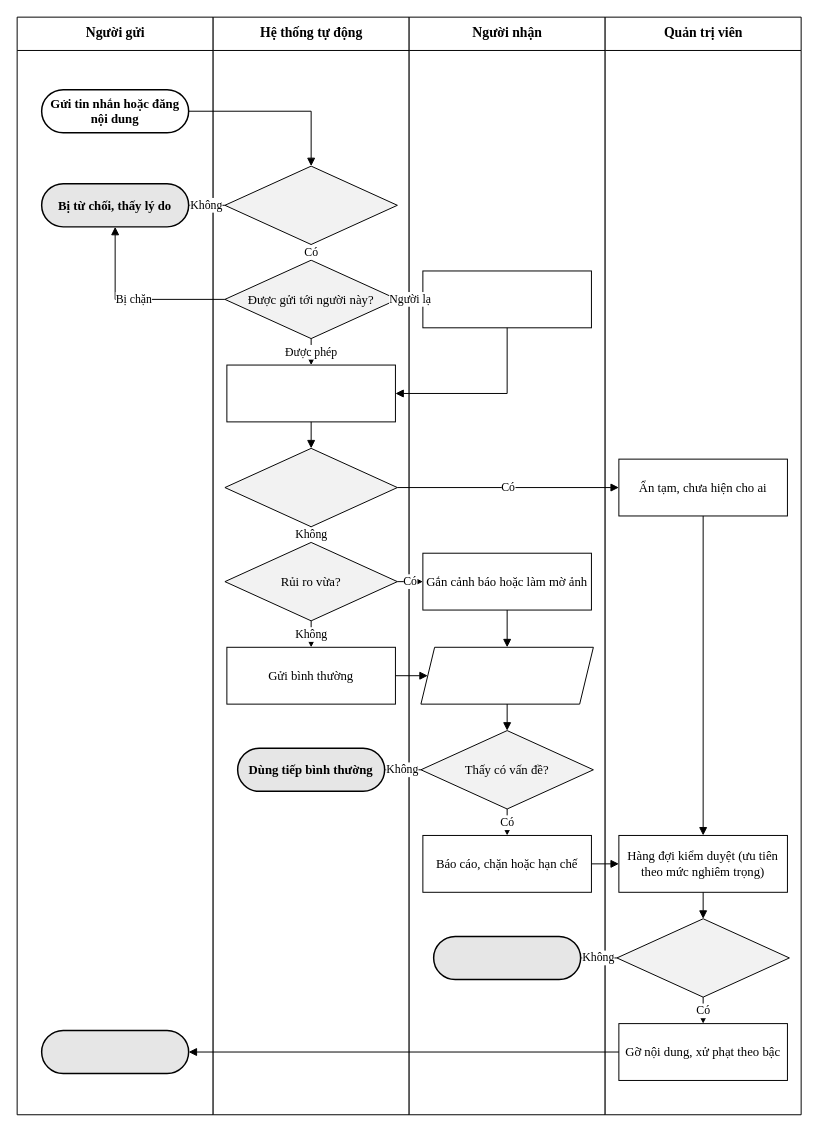
Some shapes in this 818 by 1132 pixel diagram are drawn without their labels. The shapes that lost their labels are listed below. From the top down, each one's centre as x and y in pixels, then its label:
the point at 310,205: Tài khoản được phép? (18+, không bị khóa)
the point at 506,299: Vào Tin nhắn chờ (người lạ, ẩn danh)
the point at 310,393: Quét từ ngữ, lừa đảo, đường link, ảnh nhạy cảm
the point at 310,487: Rủi ro cao?
the point at 506,675: Người nhận xem nội dung
the point at 506,957: Giữ nguyên, báo kết quả cho người báo cáo
the point at 702,957: Có vi phạm?
the point at 114,1051: Nhận cảnh cáo, có thể kháng nghị
